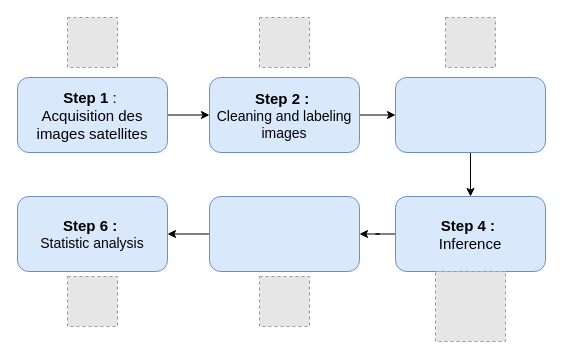
Image size: 563x359. Some labels were removed from this diagram. Grey dashed boxes stand in for pictures. The centre of each missing label's shape, as x and y in pixels:
Step 3 : Model training: pixel 470 114
Step 5 : Data production: pixel 284 234
